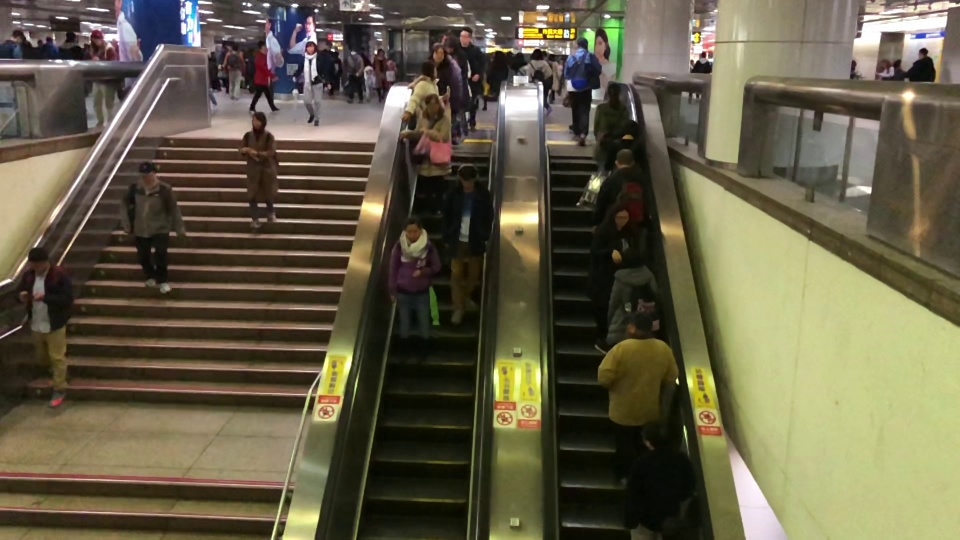person_head: (642, 421, 668, 446), (627, 311, 654, 334), (26, 246, 49, 272), (619, 247, 645, 268), (607, 201, 629, 225), (457, 161, 476, 188), (403, 214, 423, 237), (614, 148, 635, 168), (620, 119, 638, 138), (425, 93, 441, 112), (249, 111, 267, 127), (458, 26, 473, 45), (422, 60, 438, 77), (140, 164, 155, 182), (606, 82, 621, 99), (430, 44, 444, 61), (91, 29, 104, 45), (10, 30, 25, 42), (445, 37, 454, 53), (575, 37, 588, 48), (305, 40, 316, 52), (531, 48, 543, 59), (65, 31, 77, 41), (494, 51, 504, 62), (918, 47, 929, 57), (257, 40, 266, 50), (850, 59, 857, 69), (377, 48, 384, 56), (880, 59, 887, 67), (231, 43, 238, 50), (350, 47, 357, 54), (894, 58, 901, 65), (365, 66, 371, 73), (701, 51, 706, 59)
person_vbox: (596, 311, 678, 483), (15, 246, 74, 411), (621, 421, 696, 540), (441, 161, 495, 326), (120, 164, 186, 294), (388, 214, 441, 363), (585, 201, 629, 357), (398, 93, 452, 218), (605, 247, 661, 346), (238, 111, 279, 231), (591, 148, 647, 234), (563, 37, 601, 146), (292, 40, 331, 127), (85, 30, 119, 127), (458, 27, 484, 134), (57, 32, 92, 111), (444, 38, 469, 139), (401, 59, 439, 122), (250, 40, 279, 115), (429, 45, 455, 124), (593, 82, 628, 138), (603, 119, 638, 171), (224, 42, 245, 101), (904, 47, 936, 82), (346, 46, 364, 105), (487, 51, 510, 97), (526, 48, 552, 88), (692, 51, 712, 102), (372, 47, 388, 103), (0, 30, 25, 57), (874, 58, 894, 79), (364, 66, 375, 101), (849, 58, 865, 80), (894, 58, 904, 81)
